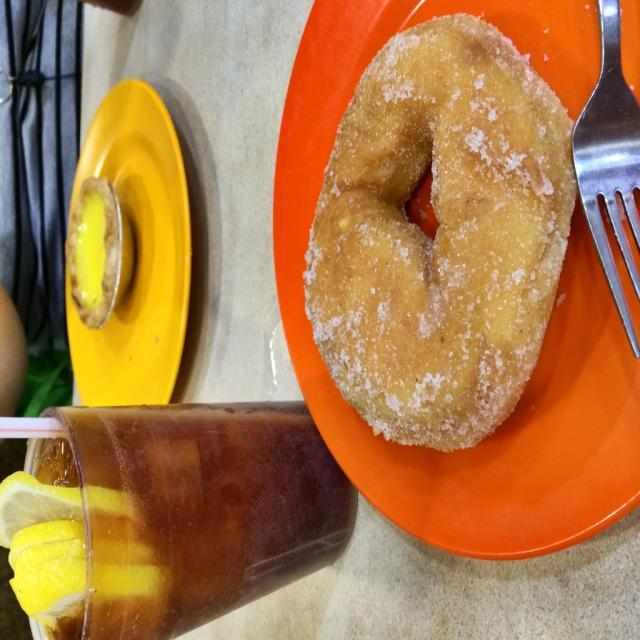Bagel: (301, 9, 578, 457)
